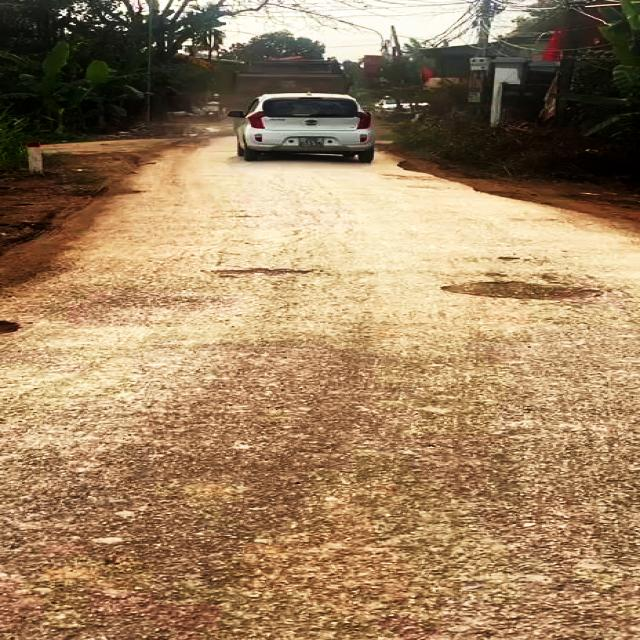pothole: (446, 276, 611, 304), (210, 266, 316, 278)
